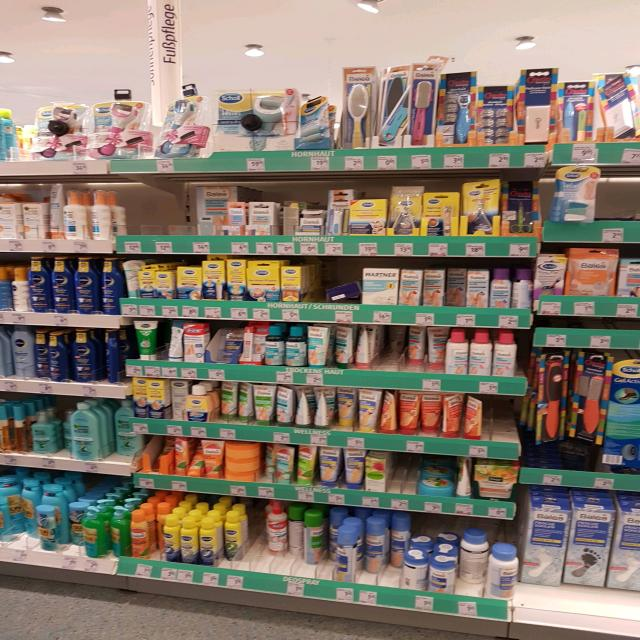void: (602, 163, 640, 240), (1, 97, 37, 178), (242, 502, 272, 579), (160, 183, 188, 260), (126, 183, 152, 257), (489, 397, 519, 459), (393, 456, 416, 510)
